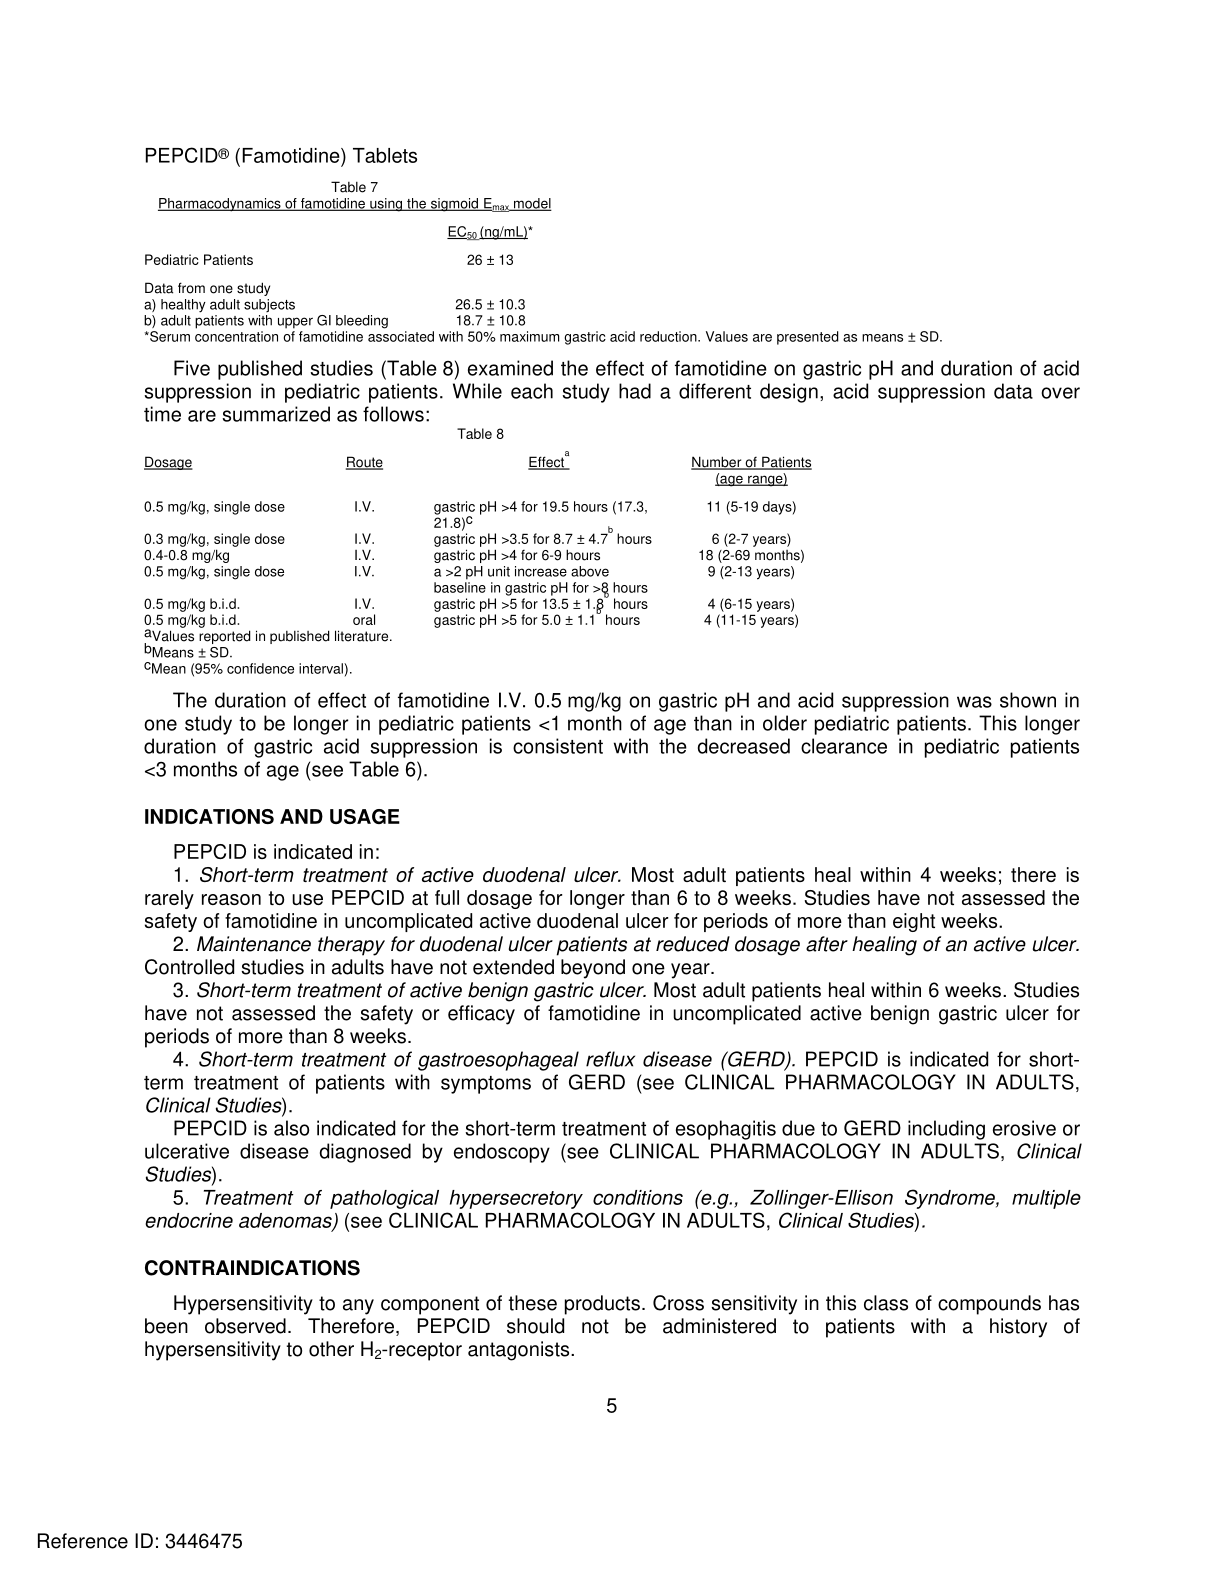nolines: (141, 453, 813, 631), (139, 224, 531, 327)
